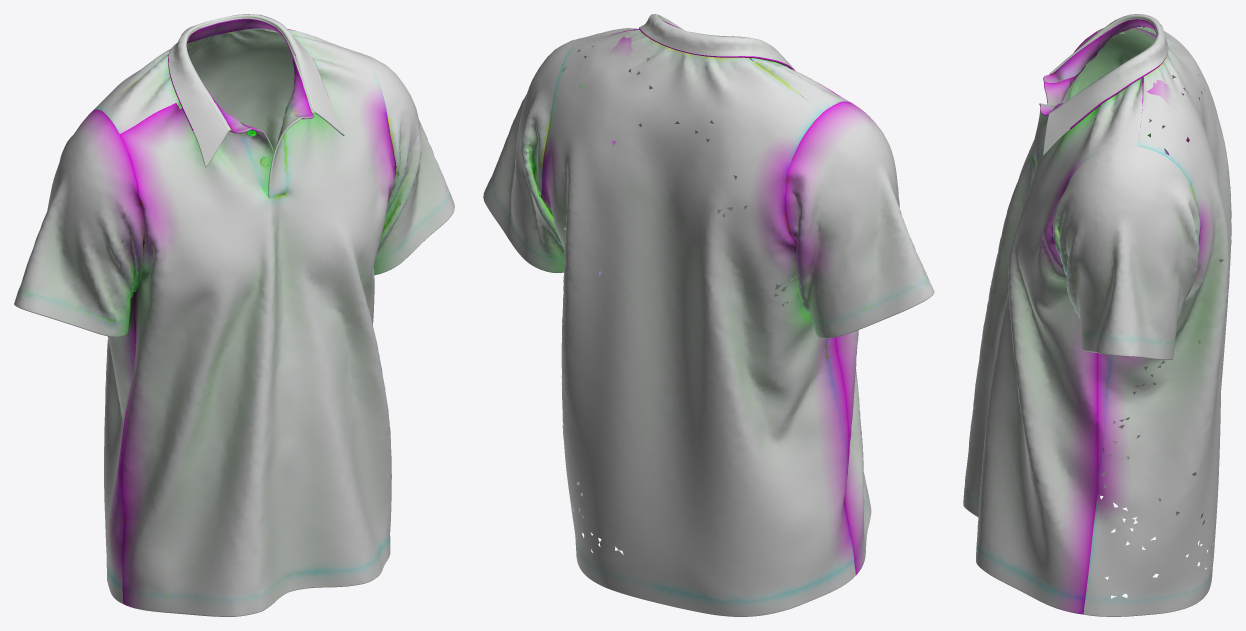
File: polo.glb
The picture shows the model from 3 angles, left to right: view 1: azimuth 30°, elevation 25°; view 2: azimuth 150°, elevation 25°; view 3: azimuth 270°, elevation 25°; orthographic projection. The views are drawn at different scales.
Visible parts, largest first — view 1: front, back, sleeve_r, sleeve_l, collar; view 2: back, sleeve_r, sleeve_l, front, collar; view 3: back, front, sleeve_l, sleeve_r, collar.
Part boxes in pixels (<box>): front: <box>120,67,396,616</box>; back: <box>93,14,374,603</box>; sleeve_r: <box>14,109,144,337</box>; sleeve_l: <box>357,52,454,275</box>; collar: <box>117,18,327,133</box>; back: <box>541,14,855,616</box>; sleeve_r: <box>785,101,934,338</box>; sleeve_l: <box>483,38,594,272</box>; front: <box>612,57,871,574</box>; collar: <box>579,20,807,100</box>; back: <box>1043,14,1231,616</box>; front: <box>963,32,1137,614</box>; sleeve_l: <box>1052,146,1200,360</box>; sleeve_r: <box>1062,27,1199,155</box>; collar: <box>1040,19,1189,146</box>.
Bounding box in the file's own units: 0.6061 × 0.72 × 0.3282.
